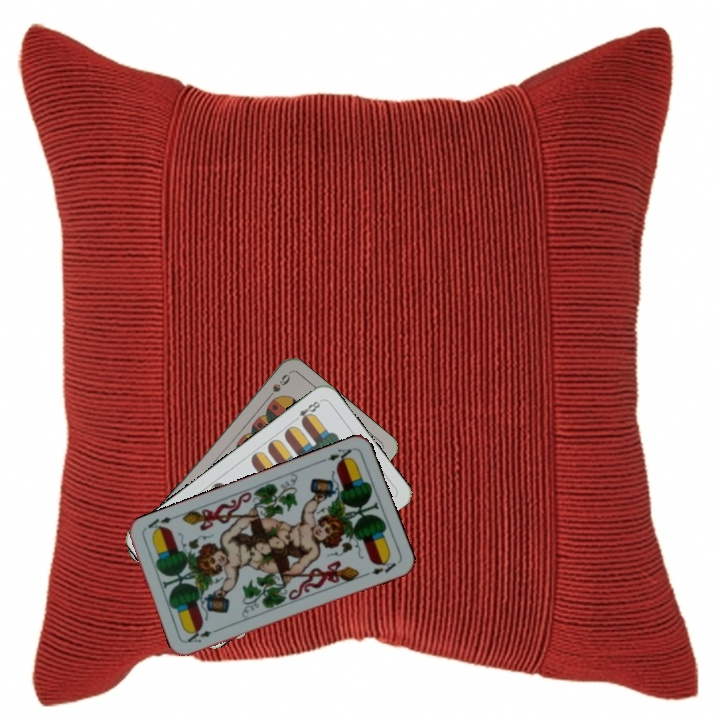E8: (289, 397, 323, 426)
EA: (317, 444, 356, 467), (183, 624, 223, 645)
S9: (262, 370, 293, 404)
